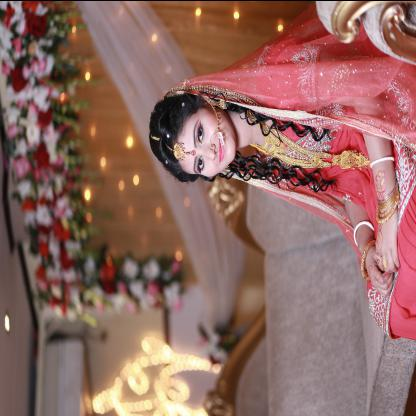Eye: (195, 119, 205, 146), (196, 154, 205, 174)
Mouth: (218, 133, 226, 163)
Nose: (203, 142, 217, 160)
